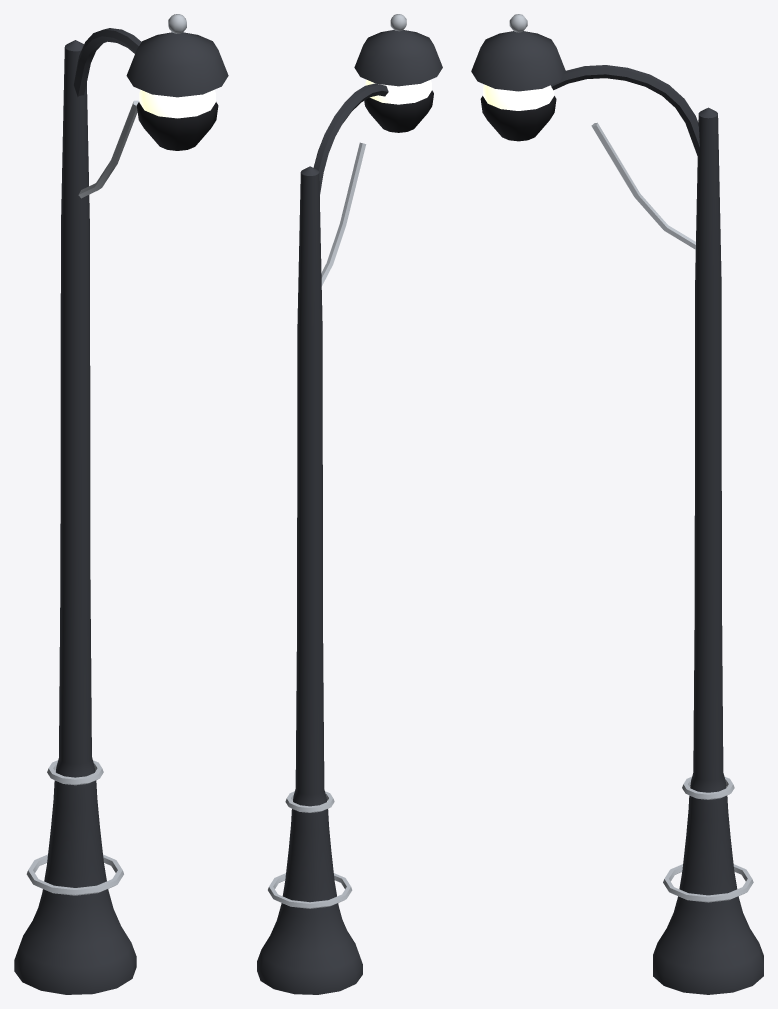
Rendered from street_lamp_tall.glb.
3 views of the same model, side by side, from view 1: azimuth 30°, elevation 25°; view 2: azimuth 150°, elevation 25°; view 3: azimuth 270°, elevation 25° (orthographic). The views are drawn at different scales.
Visible parts, largest first — view 1: street_lamp_tall; view 2: street_lamp_tall; view 3: street_lamp_tall.
Boxes of the visible parts, <box> form: street_lamp_tall: <box>14,14,228,994</box>; street_lamp_tall: <box>257,14,442,994</box>; street_lamp_tall: <box>471,14,763,994</box>.
Size of the model in its own units: 0.6 by 5.59 by 1.54.
